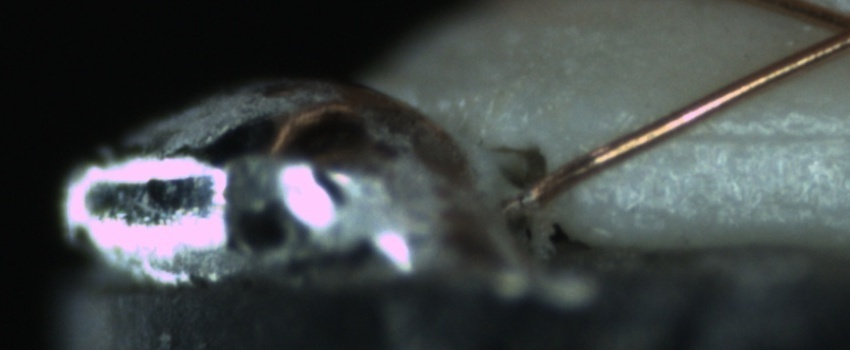CL: (804, 1, 850, 61)
DL: (672, 104, 848, 170)
